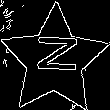N_W: (29, 39, 80, 81)
